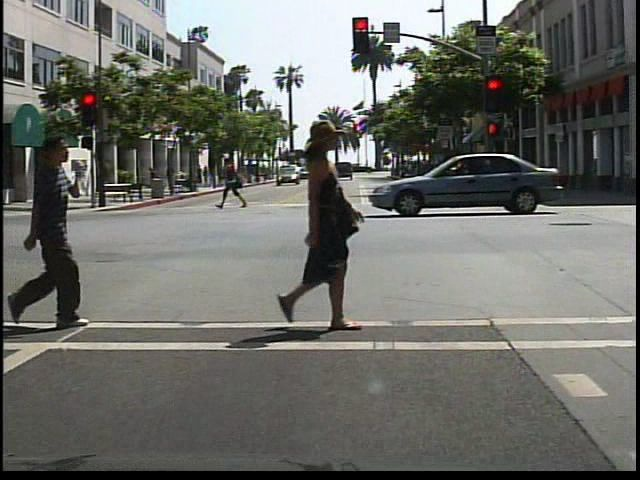person: (259, 127, 378, 339), (16, 129, 98, 331), (219, 155, 246, 210), (146, 164, 167, 197)
